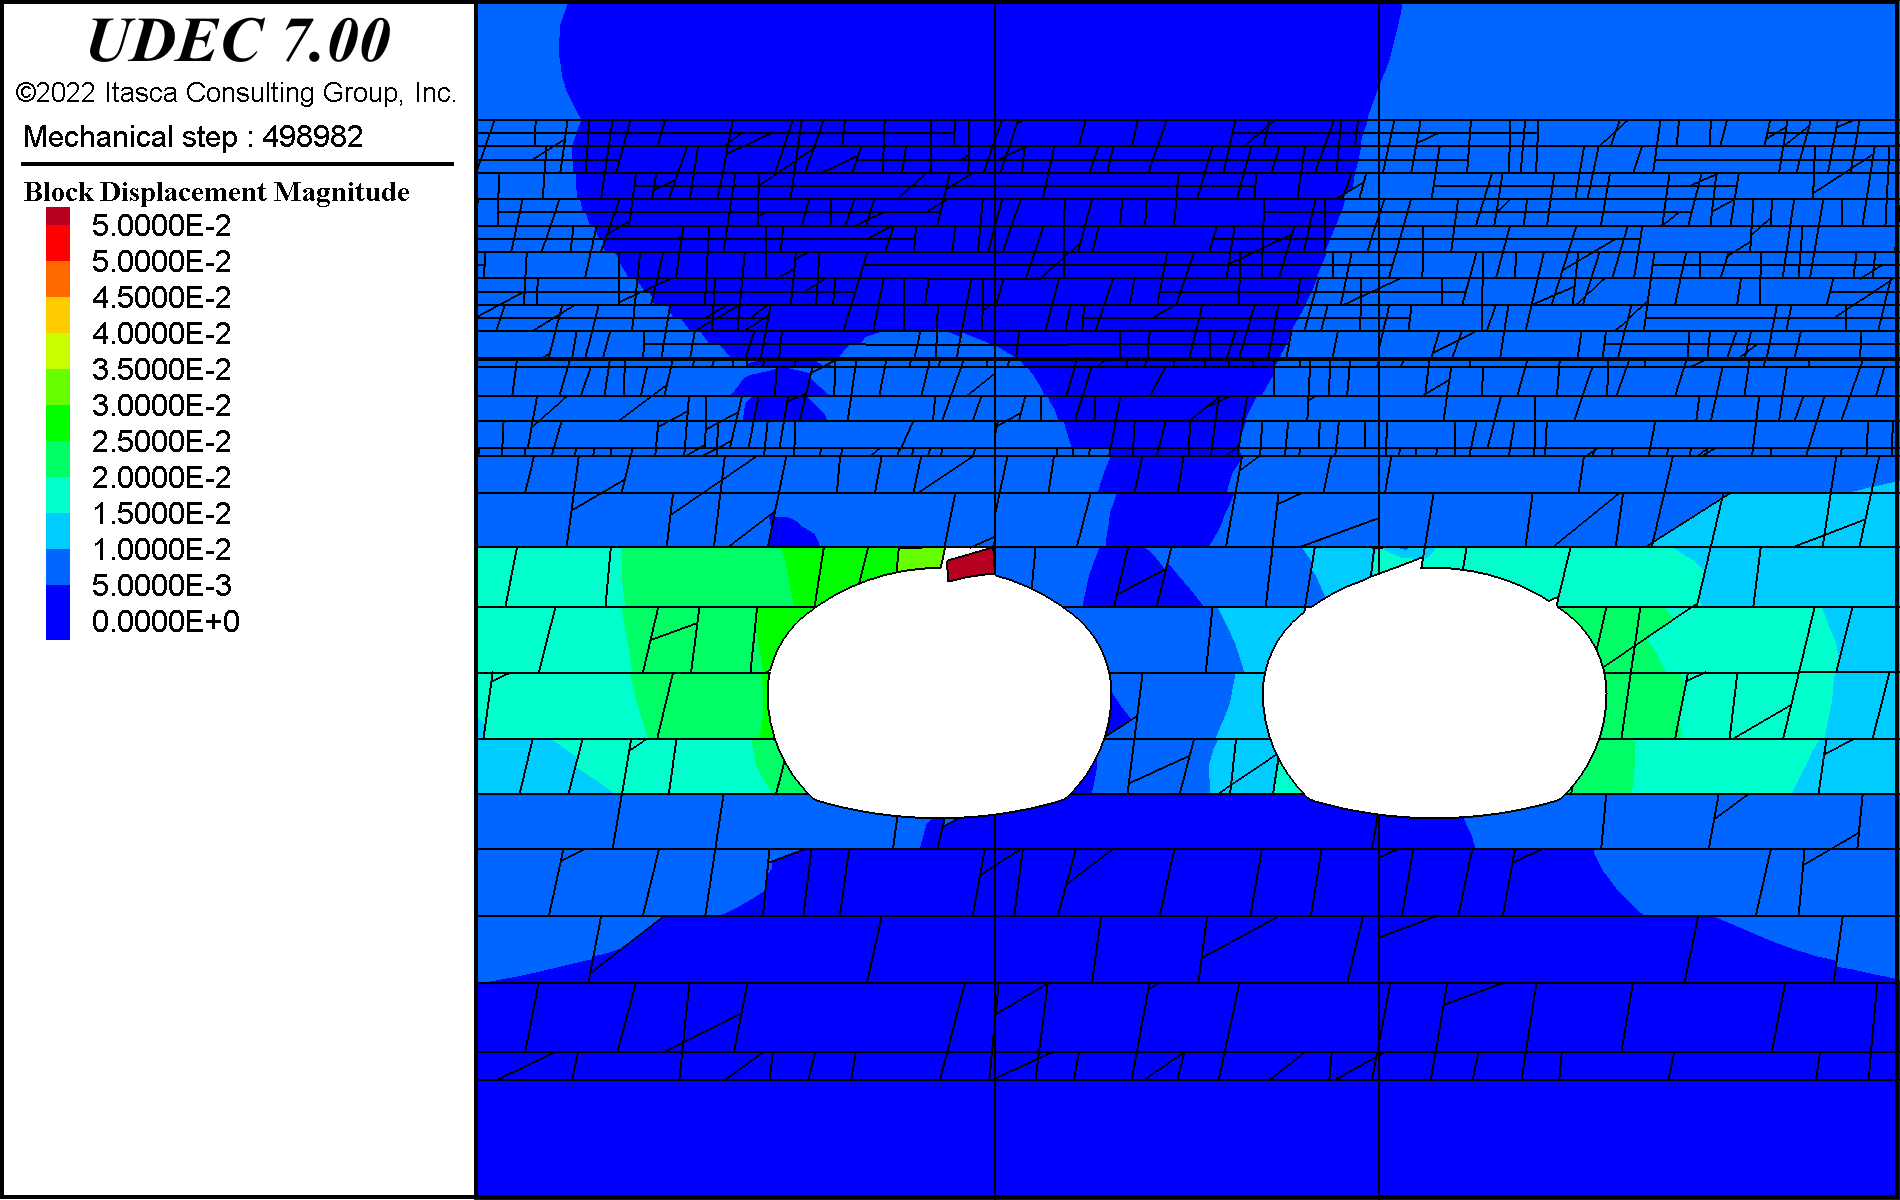crown: (909, 527, 999, 563), (1396, 532, 1484, 563)
label: (8, 0, 468, 1190)
tunnel-opening: (1262, 565, 1606, 816), (768, 568, 1110, 818)
